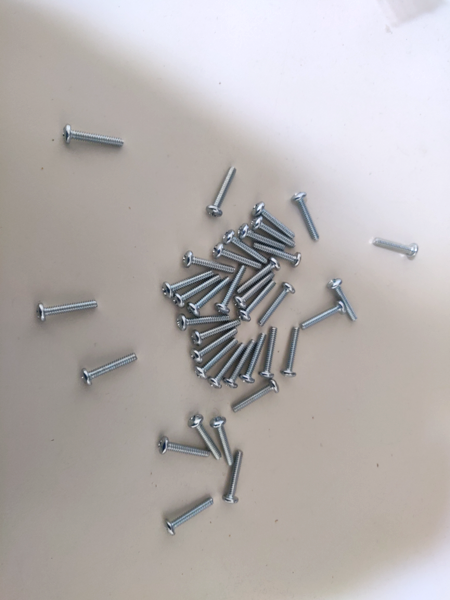longscrew: (166, 498, 213, 538), (154, 437, 210, 470), (38, 296, 100, 325), (78, 356, 140, 384), (231, 379, 279, 415), (189, 331, 240, 364), (189, 279, 231, 319), (173, 276, 222, 310), (159, 271, 215, 300), (211, 342, 245, 389), (187, 414, 219, 463), (260, 282, 299, 322), (208, 164, 236, 219), (253, 202, 293, 240), (216, 266, 247, 314), (222, 233, 270, 263), (295, 193, 324, 242), (59, 127, 126, 148), (200, 340, 238, 377), (241, 284, 279, 321), (242, 335, 269, 385), (224, 452, 247, 509), (187, 321, 239, 346), (239, 261, 281, 291), (234, 275, 276, 305), (228, 340, 254, 388), (211, 245, 262, 269), (252, 219, 296, 246), (332, 279, 358, 320), (284, 327, 304, 380), (262, 327, 282, 380), (254, 242, 302, 264), (303, 303, 343, 329), (171, 316, 231, 333), (181, 254, 237, 271), (240, 228, 284, 249), (214, 414, 231, 466), (371, 241, 421, 255)
